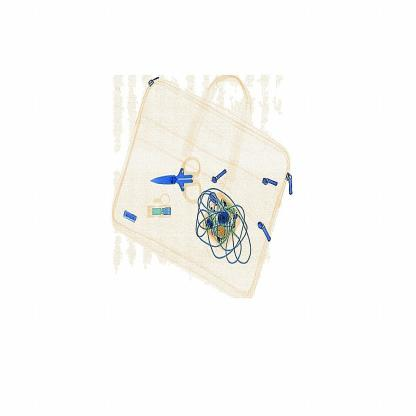gun: (144, 156, 211, 203)
